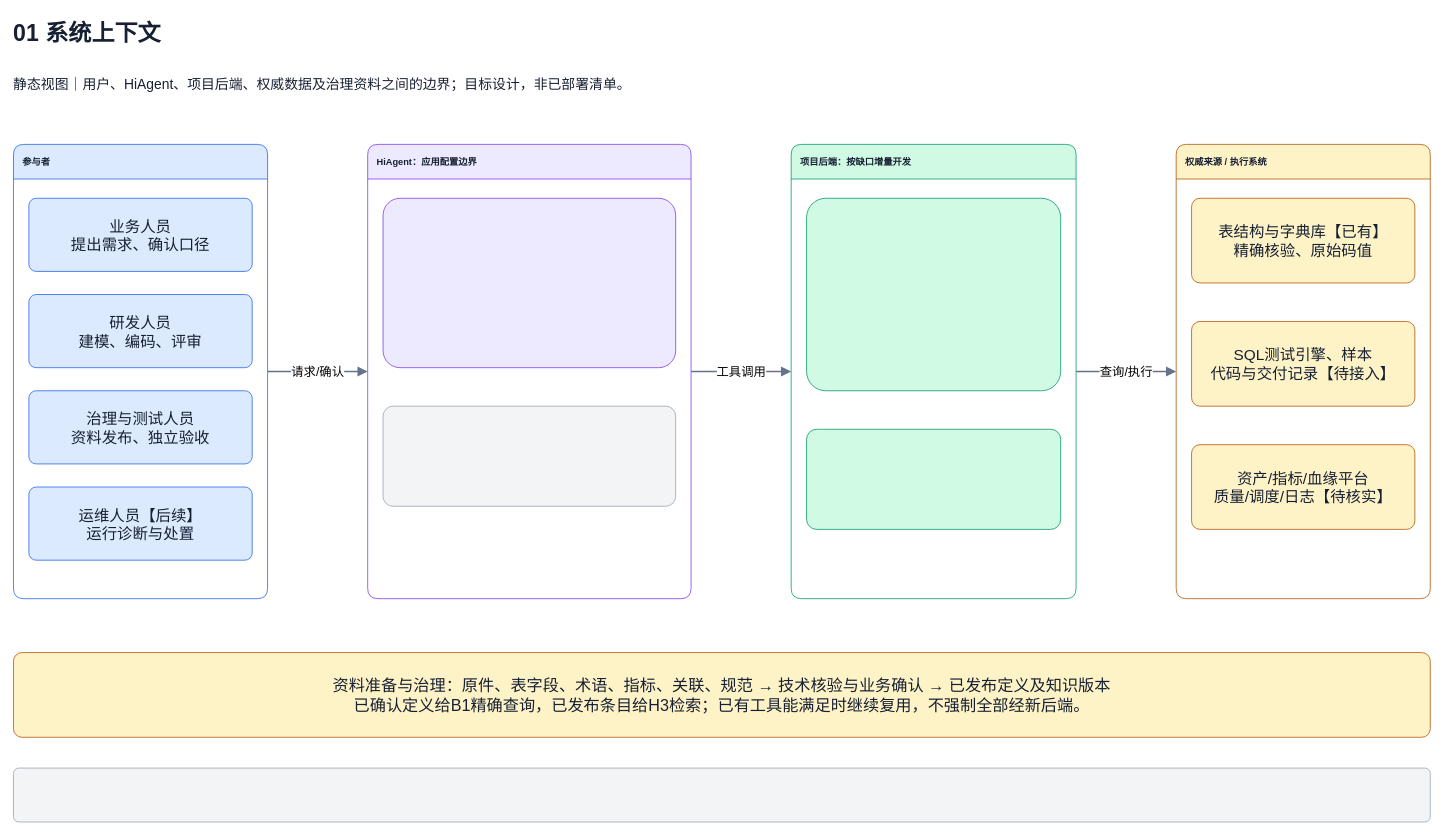
The diagram is 1444 pixels wide and 835 high, and some of its shapes have lost their labels. Here are the shapes that lost their labels. From the top down, the centre of each, then its label:
the point at 529,283: H1 应用 / H2 SKILL H3 知识与模型 / H4 工作流 理解、澄清、生成、调用工具 优先复用现有对话入口
the point at 933,294: B1 资产与业务语义 B2 研发校验 B3 质量执行【后续】 B4 调度处置【后续】 B5 任务与成果记录
the point at 529,455: 原有资产问答为起点 节点、跨轮状态、工具协议 按实际部署核验
the point at 933,479: 工具入口鉴权与范围校验 真实执行结果与版本证据 可一个进程模块化部署
the point at 721,794: 颜色表示职责：蓝＝人员/业务 紫＝HiAgent 绿＝后端/工具 黄＝事实/知识 灰＝条件说明。连线表示请求方向，结果沿原路径返回。
